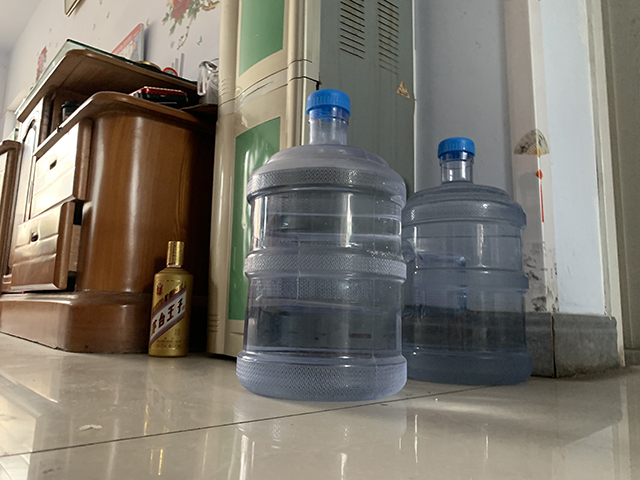cabinet: (1, 47, 218, 357)
